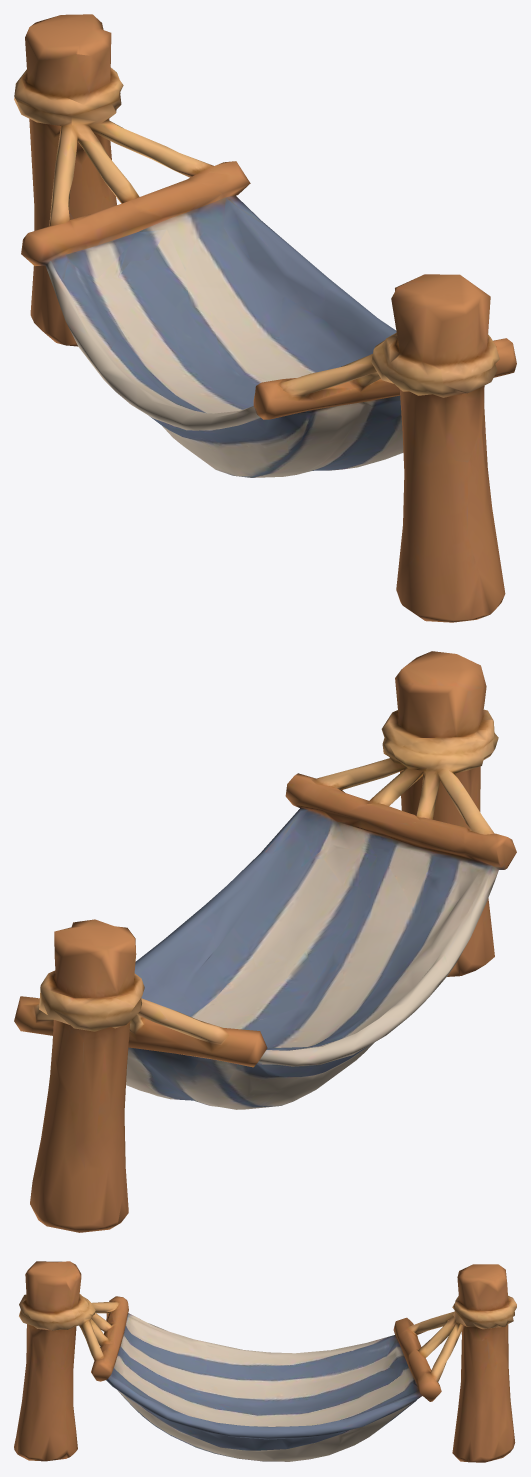
Rendered from f-hammock.glb.
3 views of the same model, one above another, from view 1: azimuth 30°, elevation 25°; view 2: azimuth 150°, elevation 25°; view 3: azimuth 270°, elevation 25° (orthographic). The views are drawn at different scales.
Visible parts, largest first — view 1: tripo_node_0db34b3e-3202-47fb-97ce-a32053b6c8bb; view 2: tripo_node_0db34b3e-3202-47fb-97ce-a32053b6c8bb; view 3: tripo_node_0db34b3e-3202-47fb-97ce-a32053b6c8bb.
Boxes of the visible parts, x1,y1,x2,y2 form: tripo_node_0db34b3e-3202-47fb-97ce-a32053b6c8bb: [14, 14, 516, 622]; tripo_node_0db34b3e-3202-47fb-97ce-a32053b6c8bb: [14, 651, 516, 1232]; tripo_node_0db34b3e-3202-47fb-97ce-a32053b6c8bb: [14, 1261, 516, 1462].
Bounding box in the file's own units: 0.3727 × 0.4045 × 1.
Materials: 1 (1 with a texture image).
